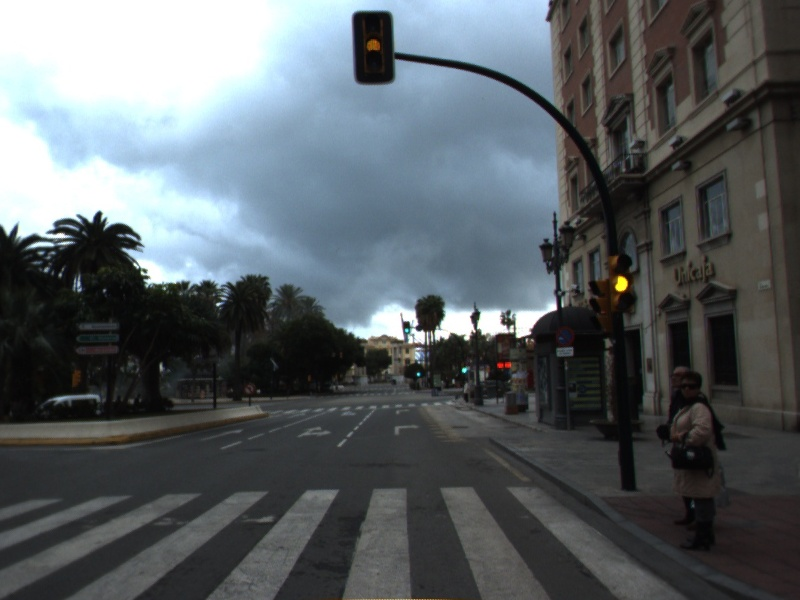RIGHT: (392, 421, 423, 438)
STRAIGHT: (198, 426, 247, 443)
STRAIGHT_RIGHT: (295, 424, 334, 440)
